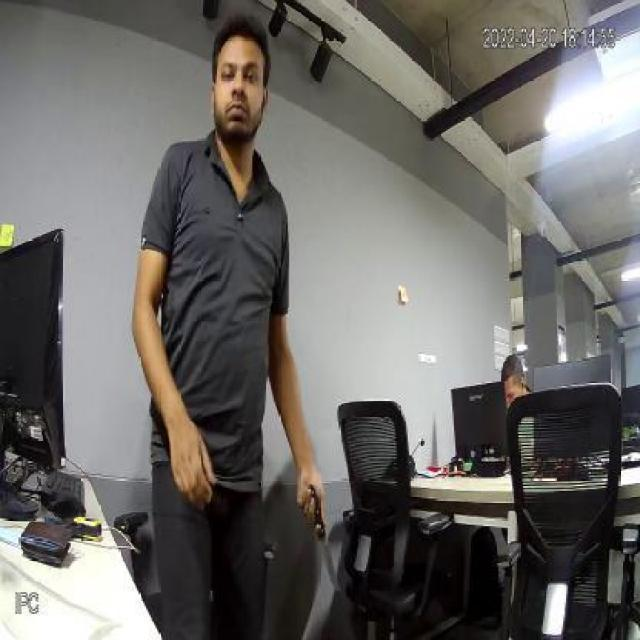-: (312, 505, 346, 599)
